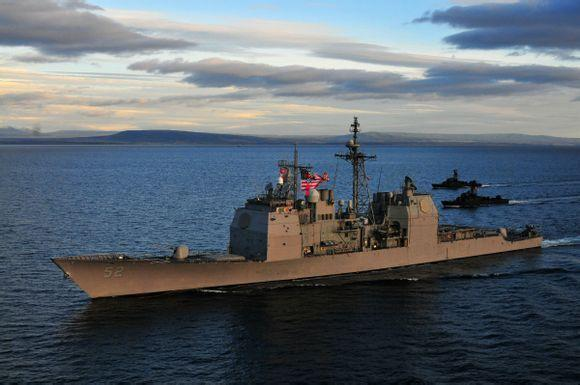warship: (46, 117, 554, 299), (442, 184, 517, 213), (430, 166, 497, 191)
